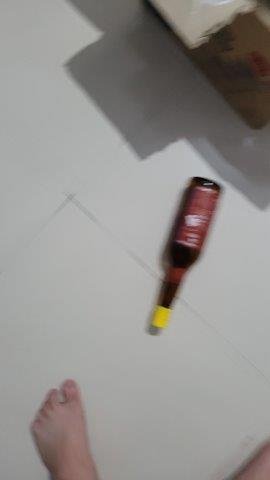botolkaca: (146, 178, 226, 332)
